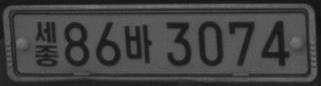0: (197, 20, 224, 66)
3: (165, 21, 192, 66)
4: (259, 20, 290, 67)
6: (94, 21, 121, 67)
7: (228, 20, 255, 66)
8: (63, 20, 90, 66)
바: (124, 24, 153, 63)
세종_V: (34, 21, 58, 67)
